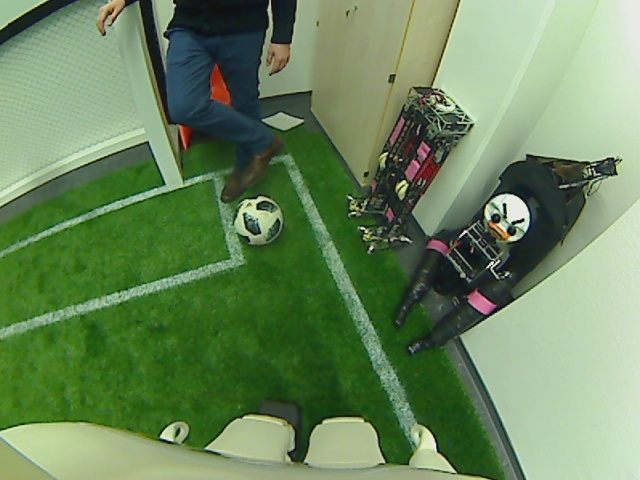ball: (232, 195, 285, 246)
